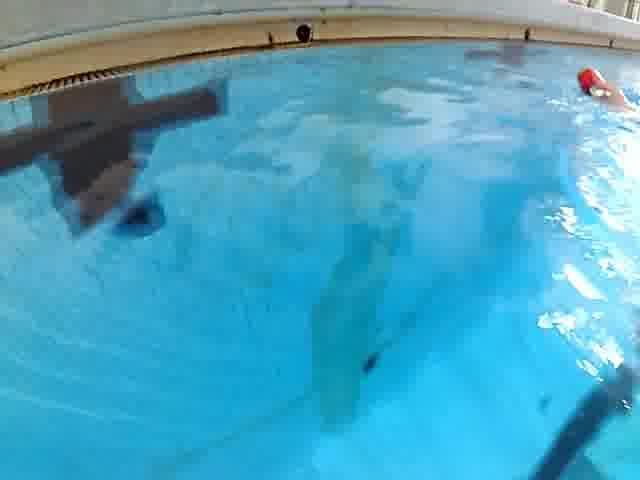Can: (576, 56, 606, 108)
